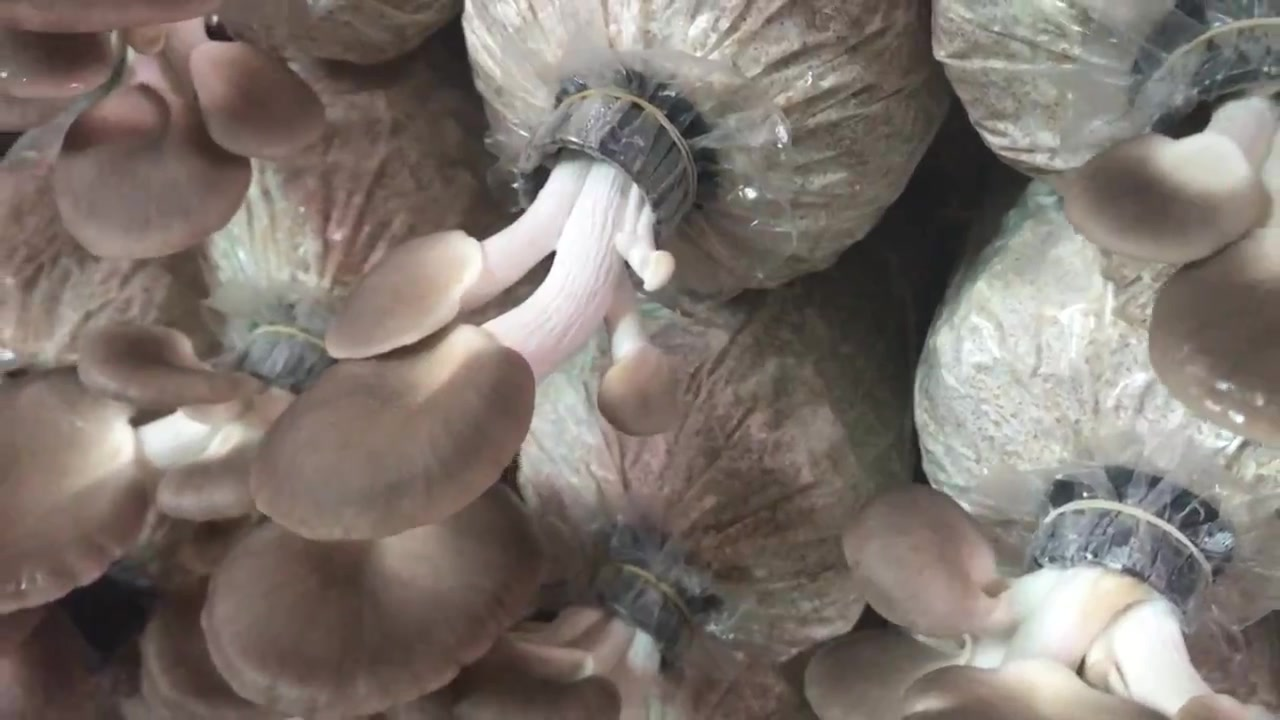nam: (1, 317, 546, 716), (253, 92, 691, 541), (803, 484, 1278, 720), (1064, 32, 1280, 445), (1, 4, 323, 266), (374, 553, 695, 720)
